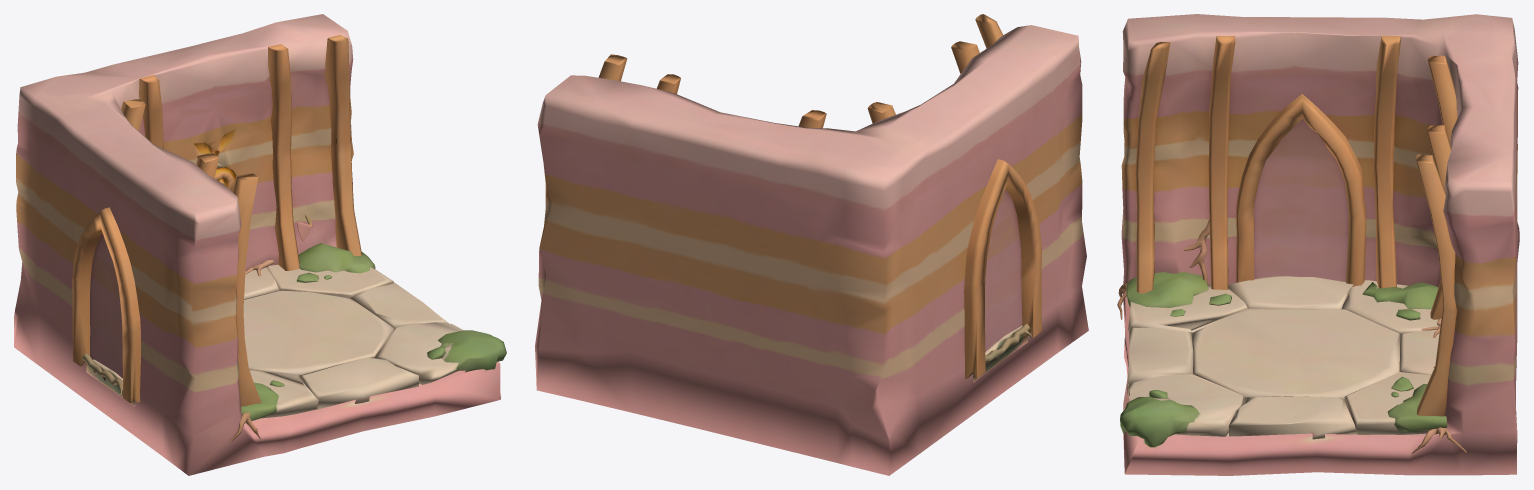
The model's file is atelier_salle_meshy.glb.
3 views of the same model, side by side, from view 1: azimuth 30°, elevation 25°; view 2: azimuth 150°, elevation 25°; view 3: azimuth 270°, elevation 25° (orthographic). The views are drawn at different scales.
Visible parts, largest first — view 1: geometry_0; view 2: geometry_0; view 3: geometry_0.
Part boxes in pixels (x1,y1,x2,y2): geometry_0: [14, 14, 506, 475]; geometry_0: [535, 14, 1088, 475]; geometry_0: [1117, 14, 1519, 475].
Bounding box in the file's own units: 0.9619 × 0.7529 × 0.9126.
1 material, 1 textured.
